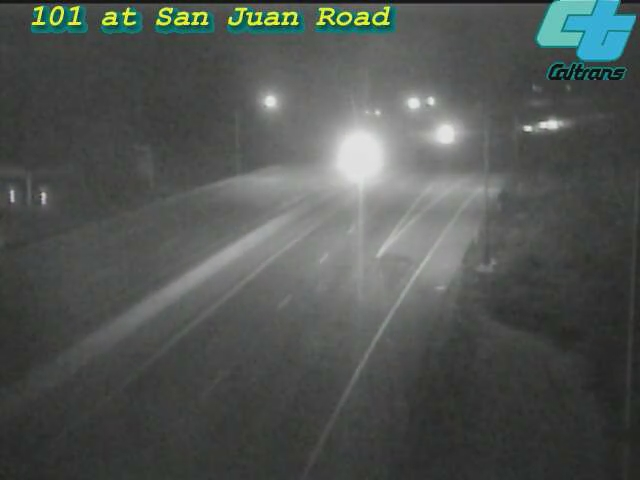vehicle: (331, 132, 381, 182), (416, 110, 466, 160), (535, 97, 585, 147), (520, 99, 570, 149), (503, 103, 553, 153)
